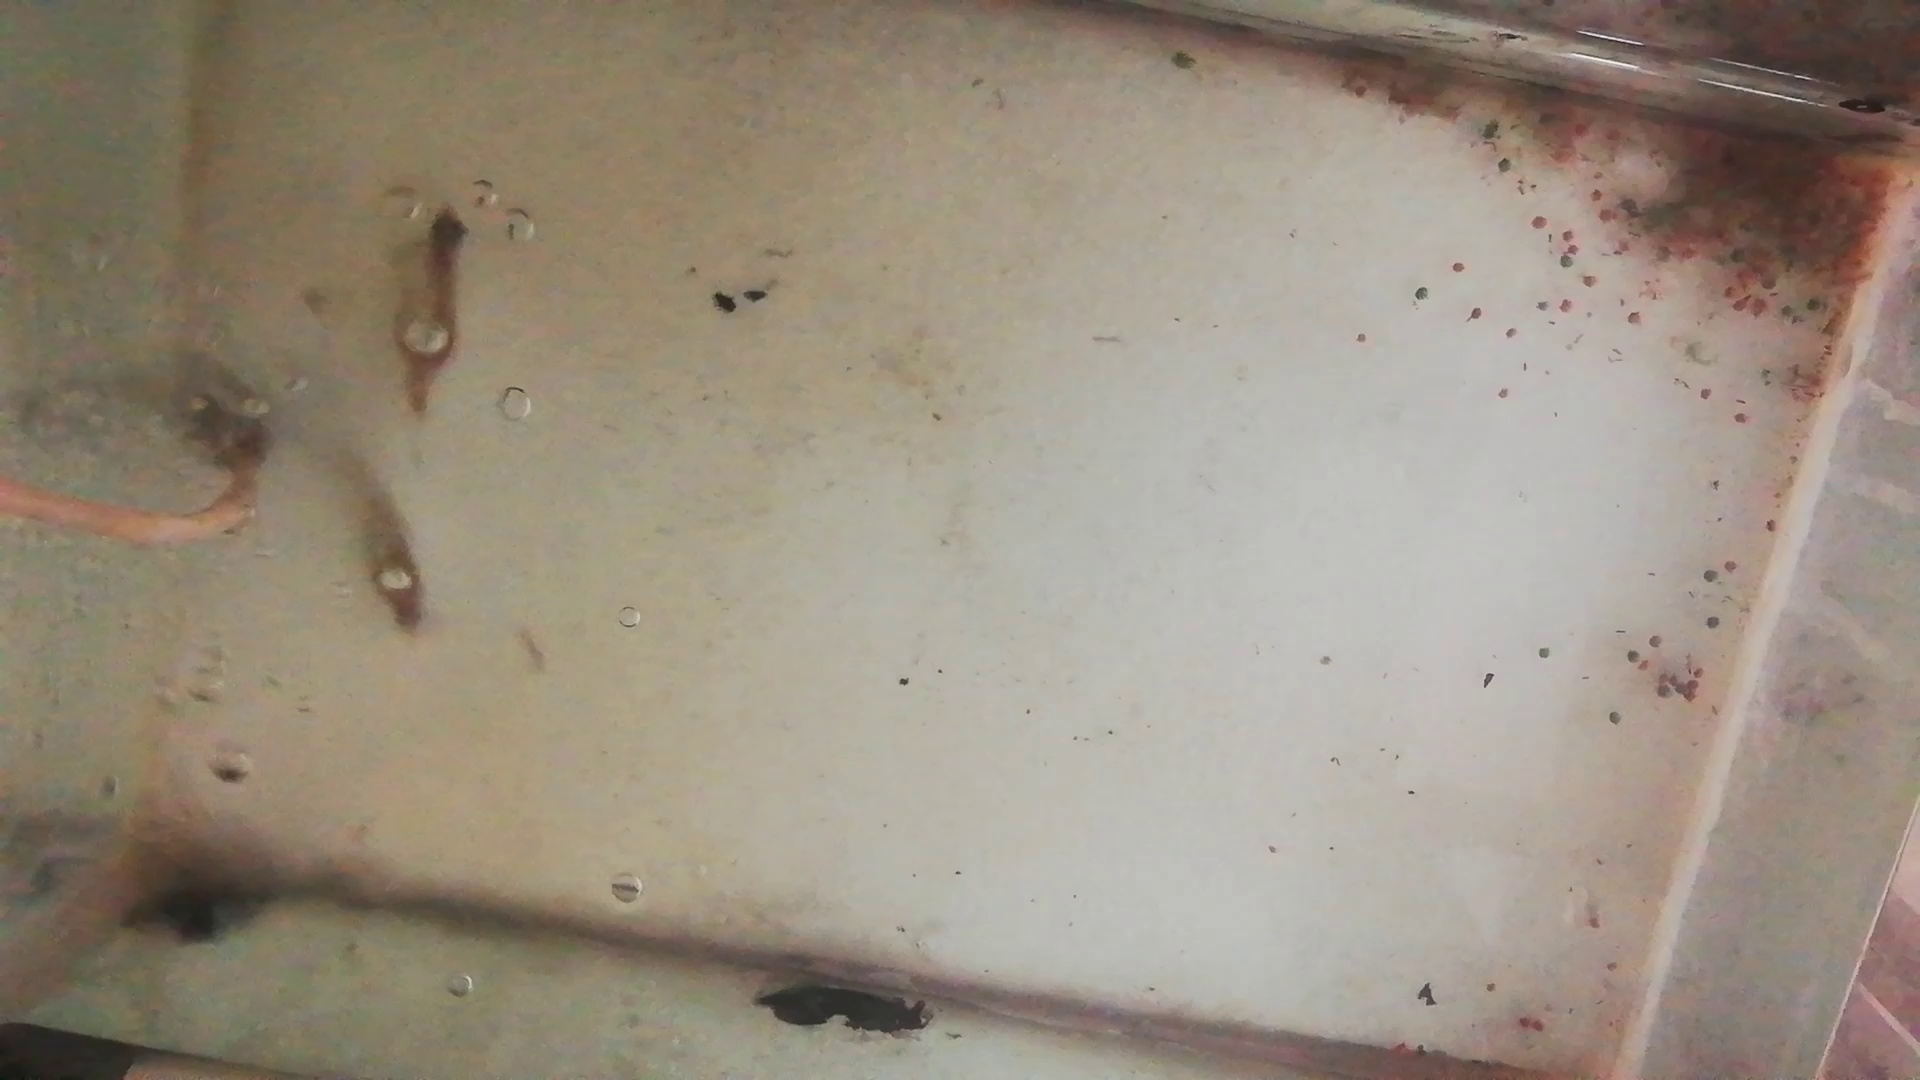fish: (334, 444, 430, 636), (396, 204, 469, 419)
